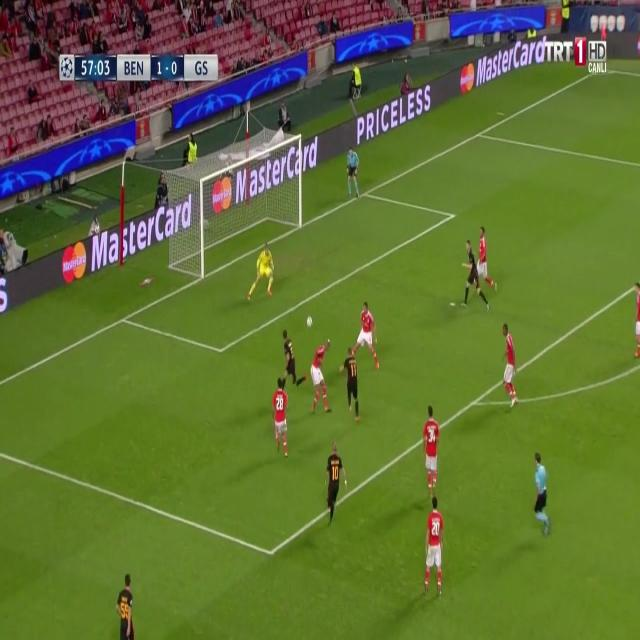Ball: (304, 313, 315, 332)
Goalkeeper: (246, 238, 276, 303)
Player: (420, 496, 447, 600), (351, 299, 383, 371), (460, 238, 490, 310), (323, 440, 348, 526), (501, 320, 524, 412), (337, 347, 363, 426), (310, 336, 332, 414), (423, 404, 441, 499), (476, 224, 501, 292), (281, 327, 309, 387), (270, 378, 290, 462), (114, 573, 136, 640), (632, 274, 640, 364)
Referee: (531, 450, 554, 542), (344, 145, 362, 201)
